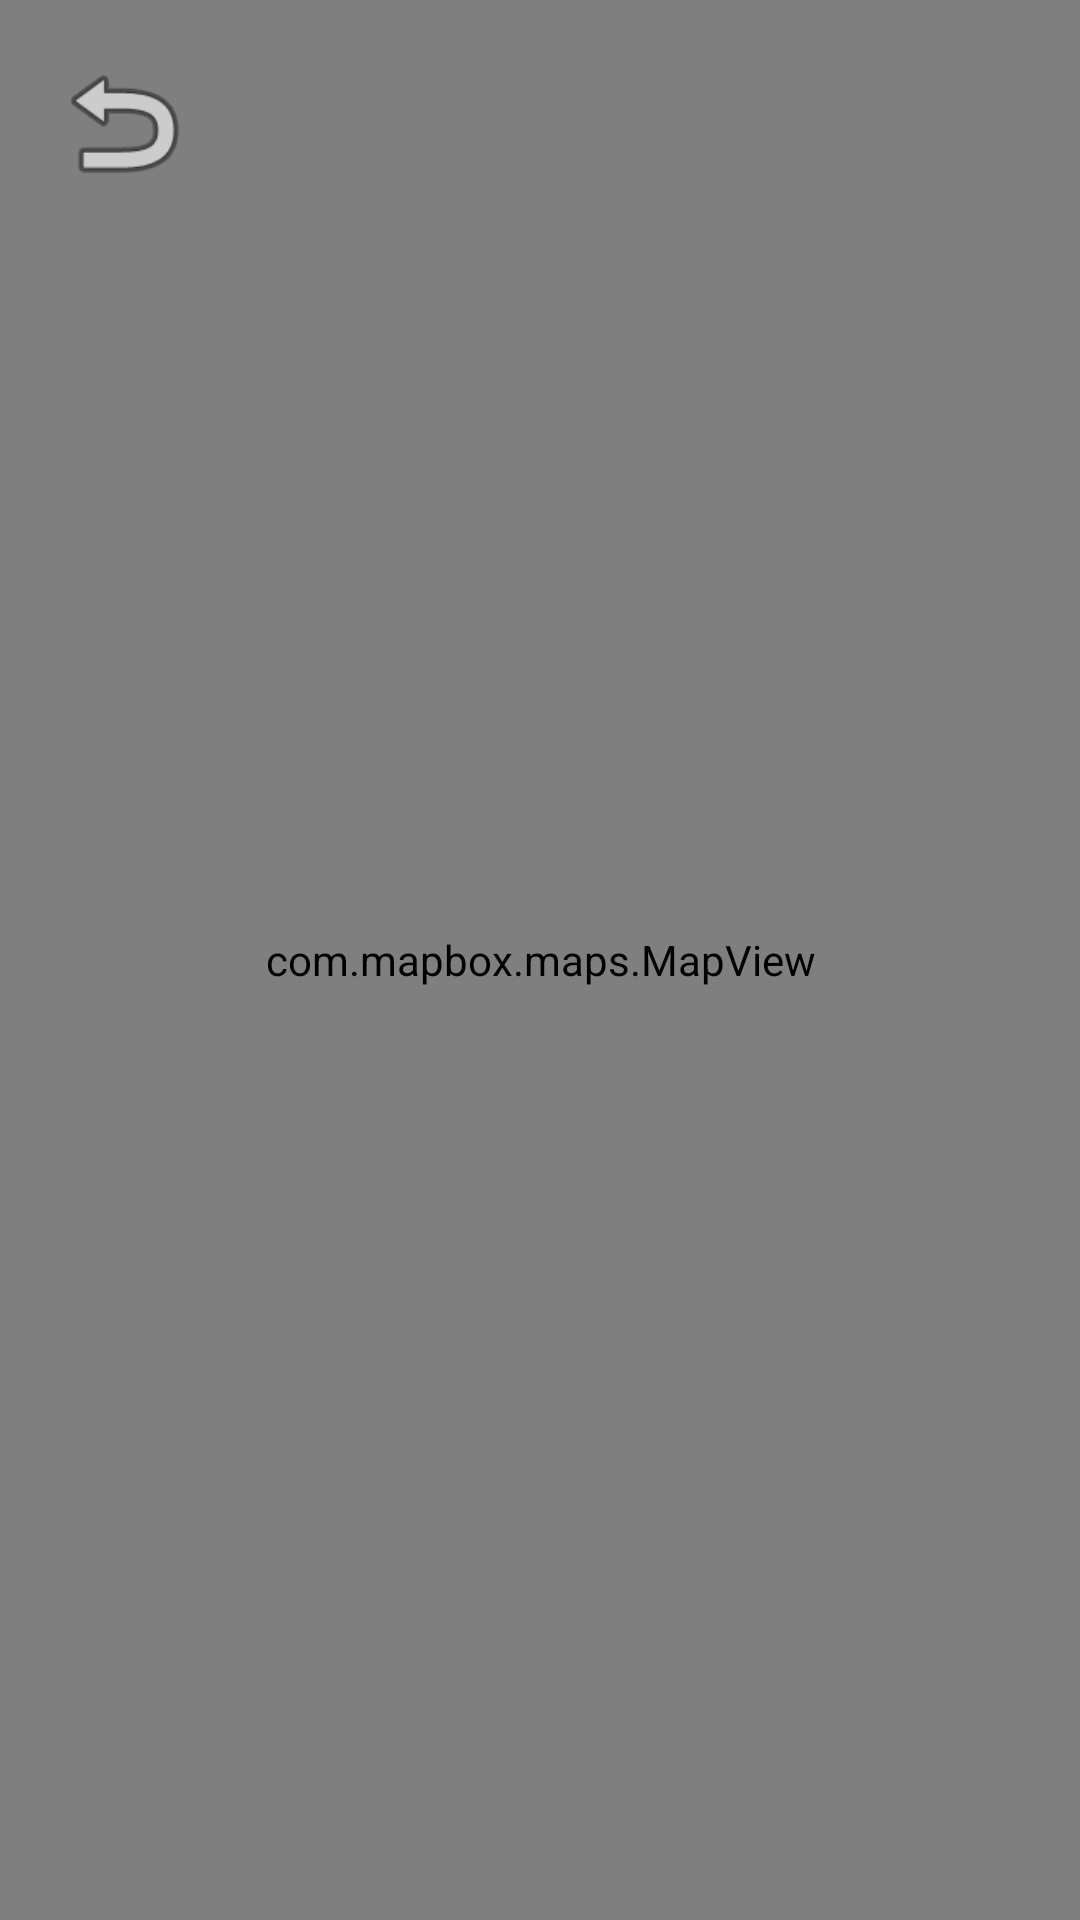

Named icons in this screenshot (1080×1920) and their bounding boxes, [x1,y1,x2,y2]:
revert: [71,76,179,173]
